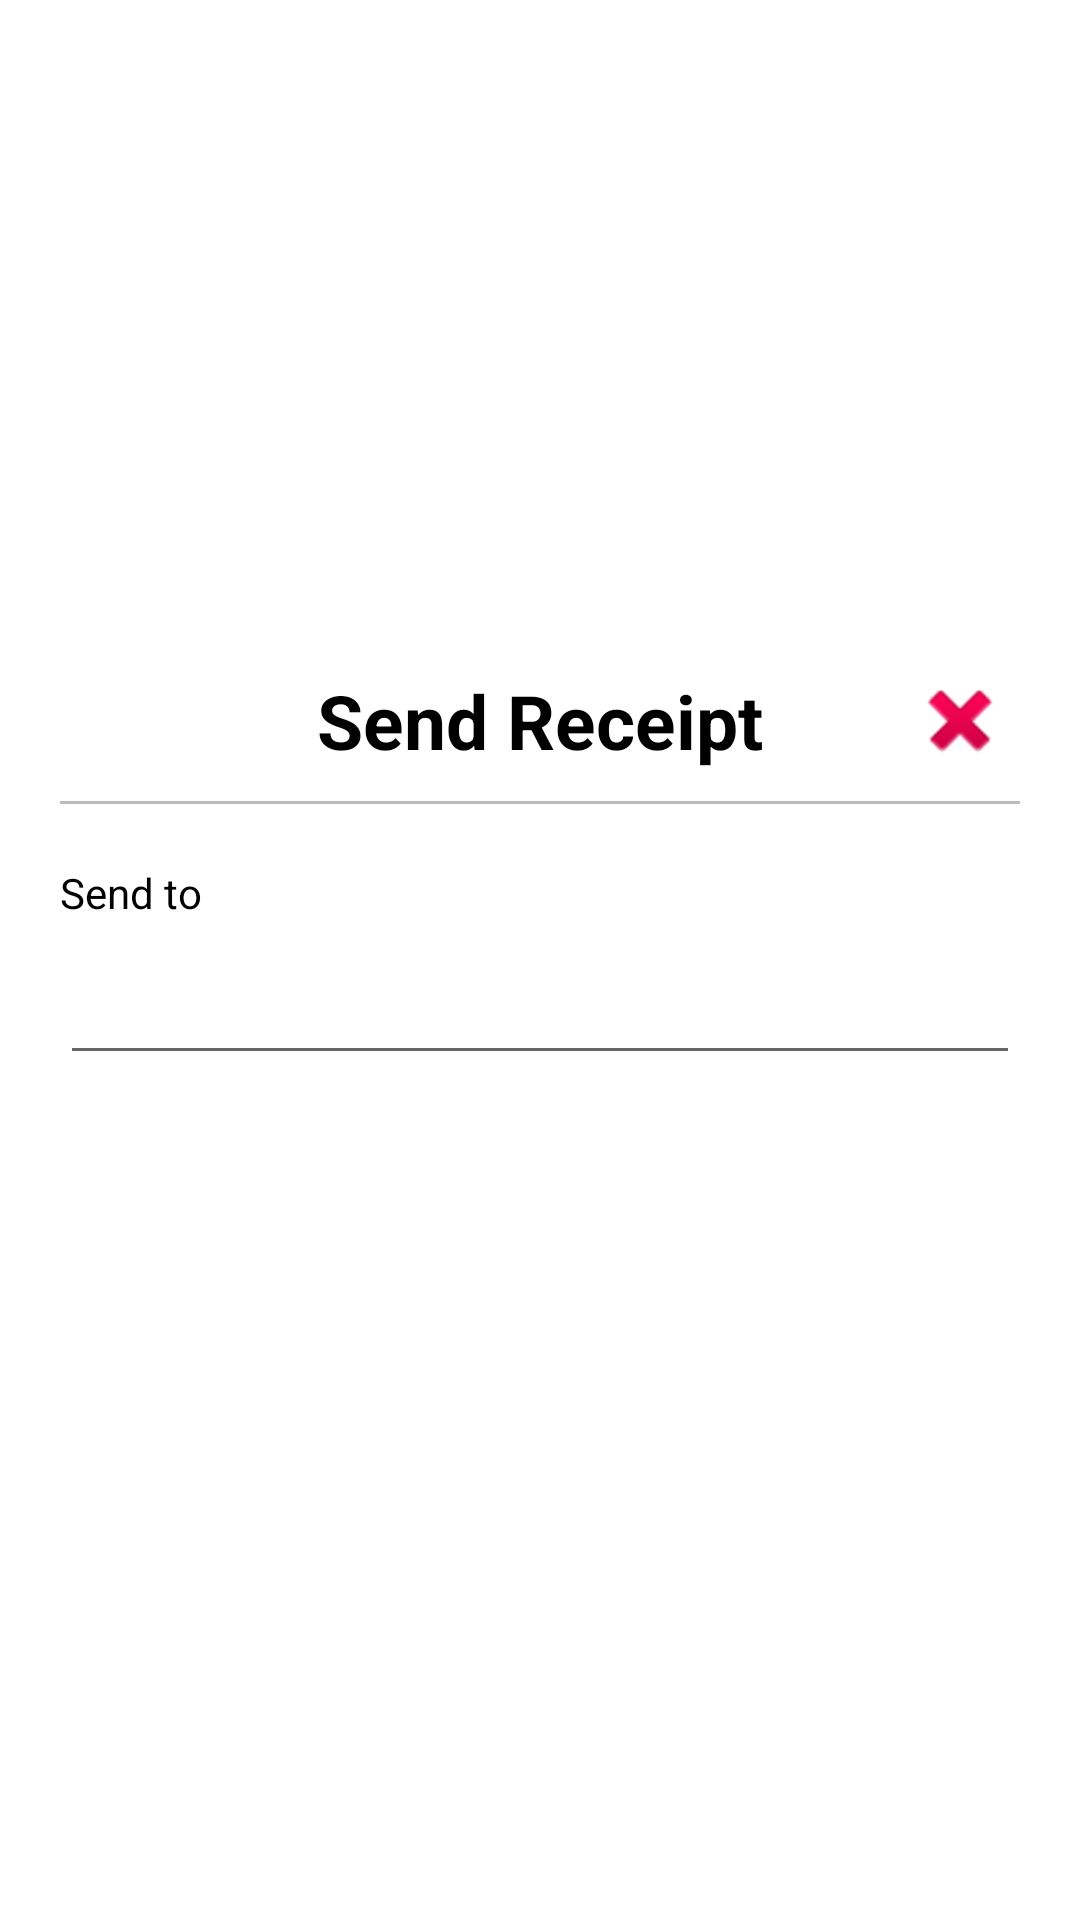

Icons on this 1080 × 1920 Android screen, each with its box as (x1, y1, x2, y2):
delete: (928, 690, 992, 752)
